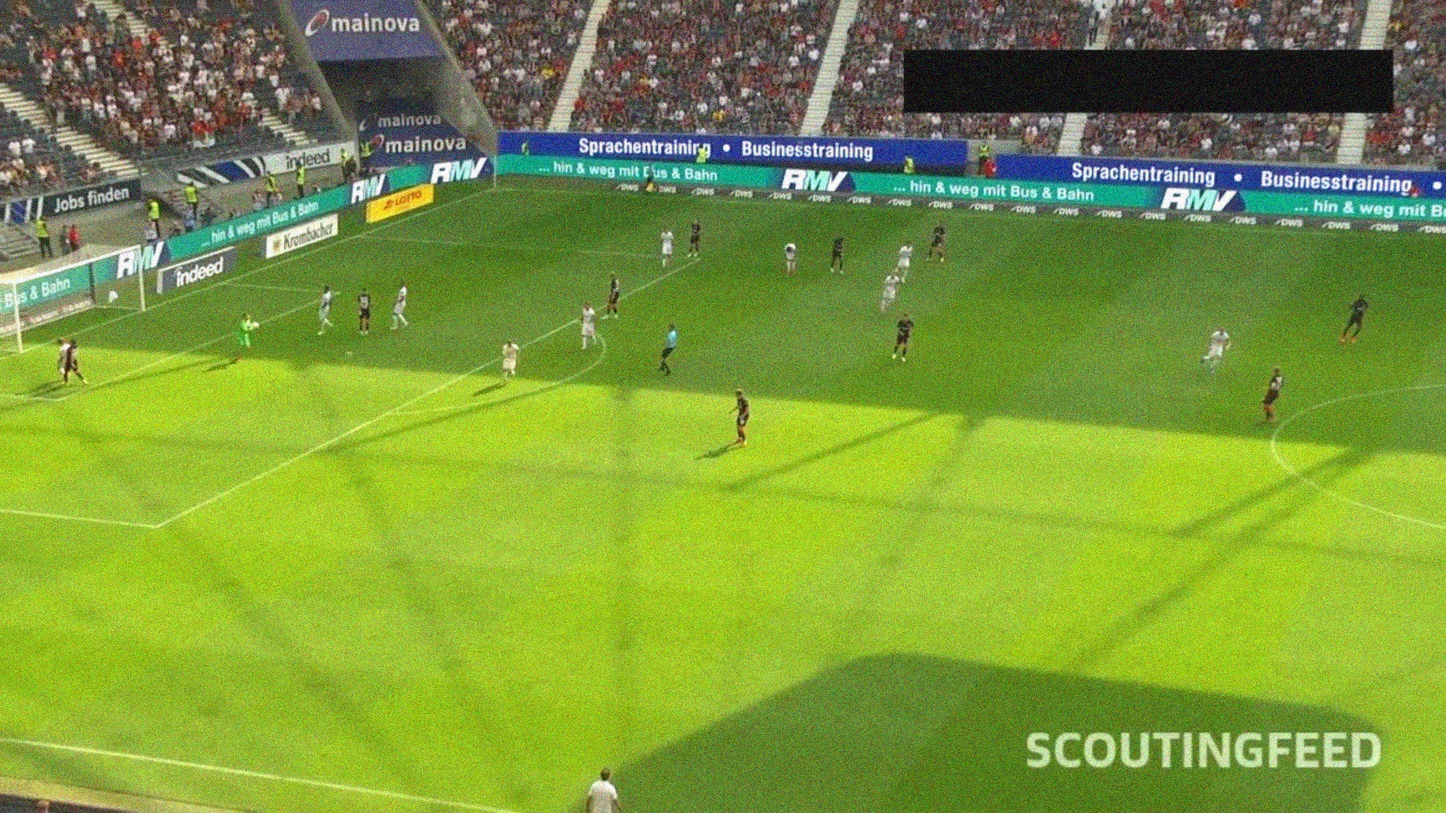goalkeeper: (227, 311, 261, 364)
player: (1199, 324, 1232, 375), (1339, 291, 1369, 344), (1261, 364, 1286, 423), (62, 336, 89, 390), (728, 387, 751, 450), (498, 336, 523, 388), (891, 313, 914, 364), (577, 301, 598, 354), (924, 218, 947, 266), (390, 277, 410, 332), (601, 267, 621, 322), (878, 268, 901, 315), (314, 282, 334, 336), (657, 224, 676, 272), (893, 240, 914, 281), (358, 285, 374, 338), (827, 233, 847, 274), (56, 338, 73, 381), (685, 217, 701, 259), (783, 239, 797, 276)
referee: (656, 321, 679, 377), (644, 161, 657, 198)
